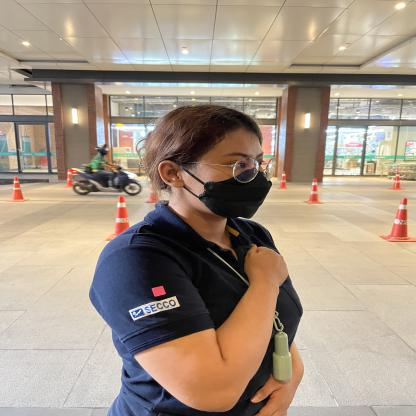Sadness: (200, 218, 322, 348)
